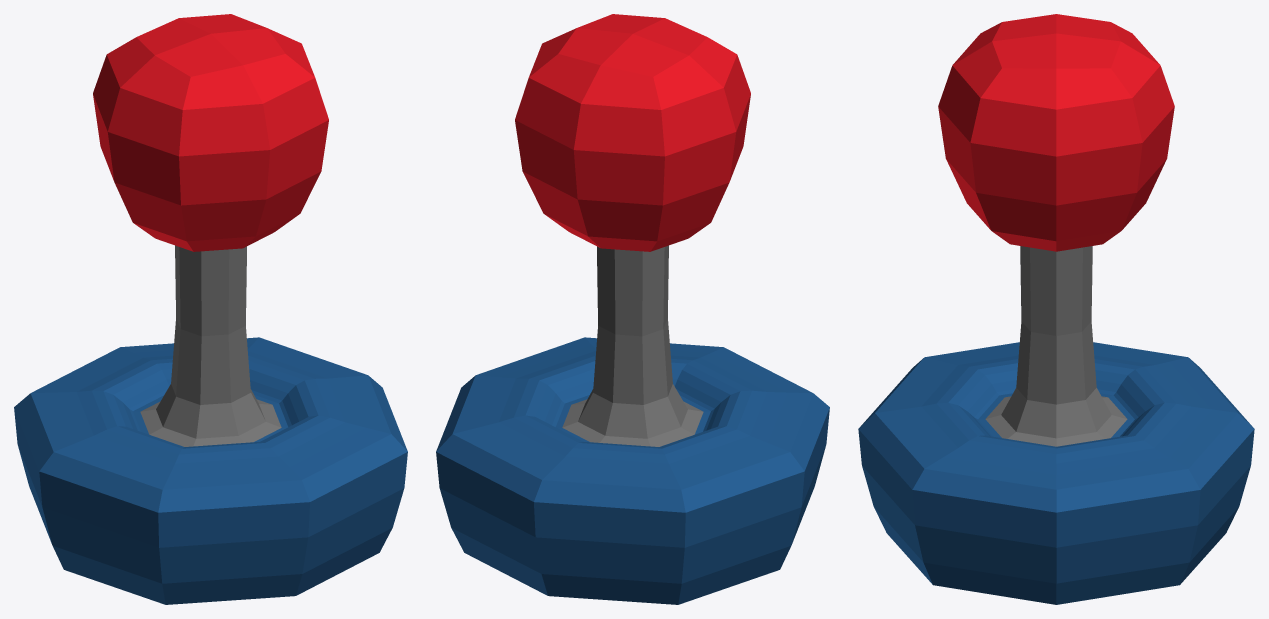
File: Controle.fbx
3 renders of one model, left to right at view 1: azimuth 30°, elevation 25°; view 2: azimuth 150°, elevation 25°; view 3: azimuth 270°, elevation 25°, orthographic.
Visible parts, largest first — view 1: Controle; view 2: Controle; view 3: Controle.
Boxes of the visible parts, left/top/right/bottom form: Controle: left=14, top=14, right=407, bottom=604; Controle: left=436, top=14, right=829, bottom=604; Controle: left=858, top=14, right=1254, bottom=604.
Size of the model in its own units: 483 by 483 by 695.
